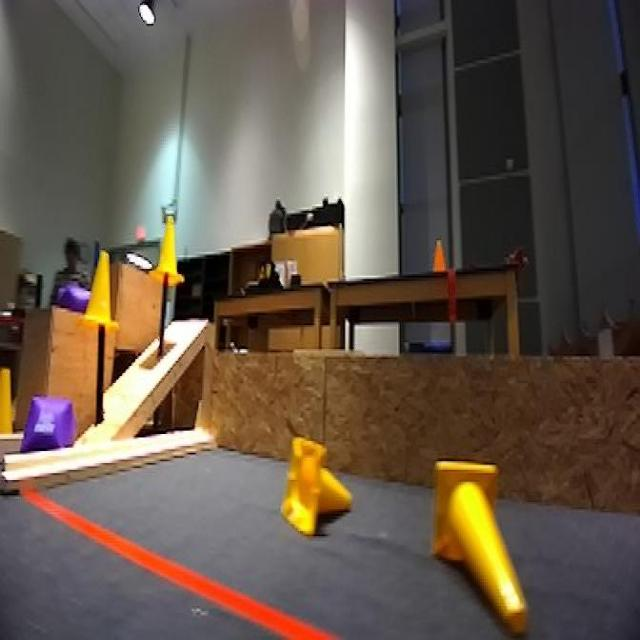frc_cone: (429, 456, 534, 635), (280, 437, 347, 538), (84, 247, 119, 337), (152, 216, 187, 298), (0, 362, 15, 442)
frc_cube: (22, 395, 75, 459), (49, 281, 97, 315)
